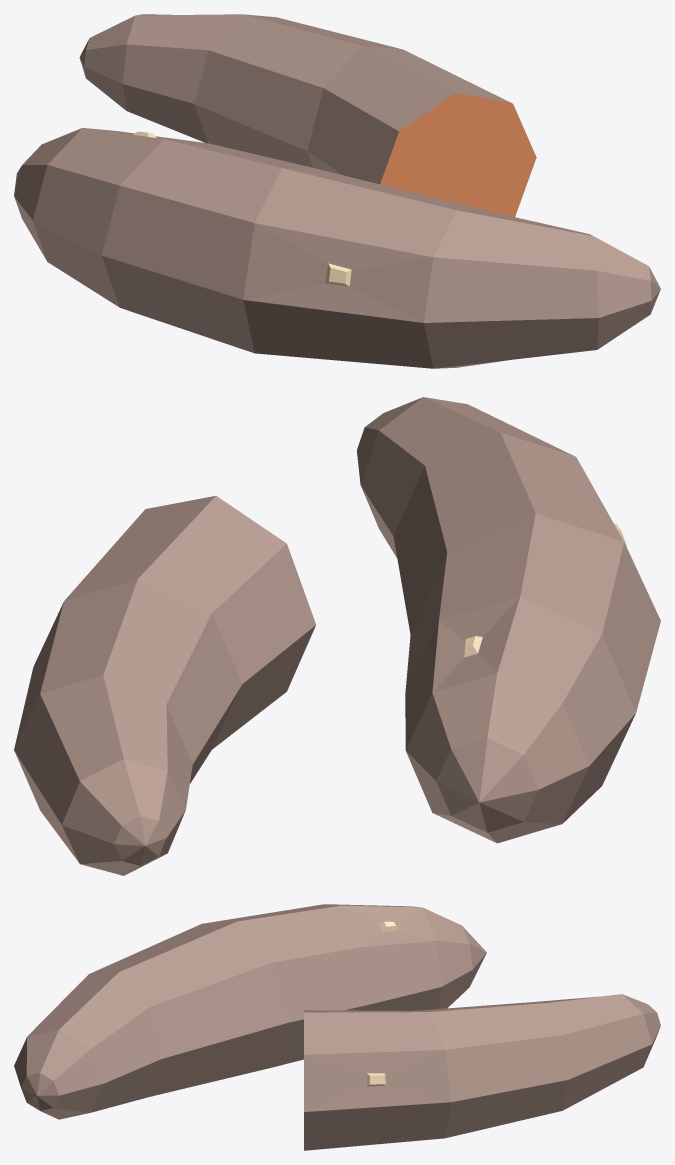
Rendered from sweet-potato.glb.
The picture shows the model from 3 angles, top to bottom: view 1: azimuth 30°, elevation 25°; view 2: azimuth 150°, elevation 25°; view 3: azimuth 270°, elevation 25°; orthographic projection. The views are drawn at different scales.
Parts seen in each view (by area): view 1: Sweet_Potato_Circle.022; view 2: Sweet_Potato_Circle.022; view 3: Sweet_Potato_Circle.022.
Boxes of the visible parts, box(x1,y1,x2,y2) form: Sweet_Potato_Circle.022: box(14, 14, 660, 368); Sweet_Potato_Circle.022: box(14, 397, 660, 875); Sweet_Potato_Circle.022: box(14, 904, 660, 1150).
Size of the model in its own units: 11.15 by 4.44 by 17.53.
